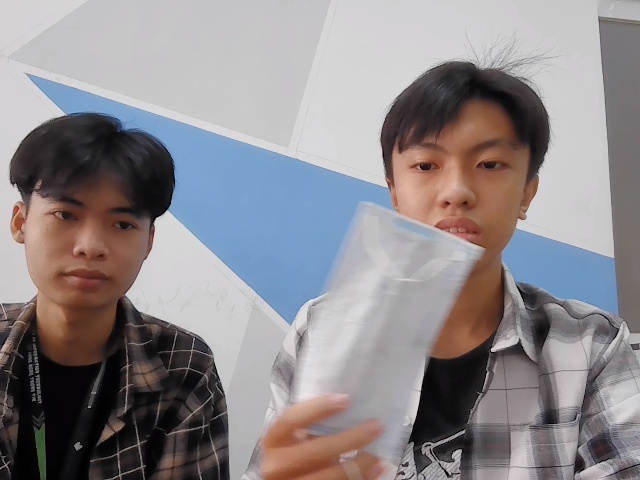human: (376, 57, 558, 273), (12, 111, 176, 321)
mask: (300, 194, 481, 465)
